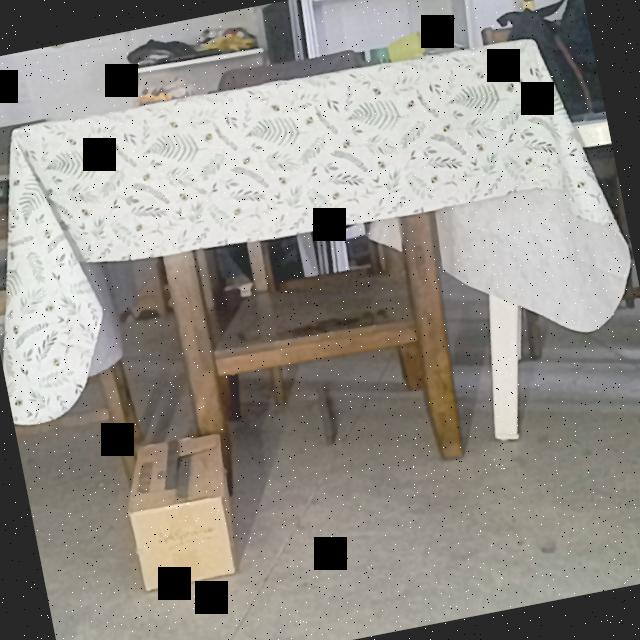box: (130, 497, 236, 592)
